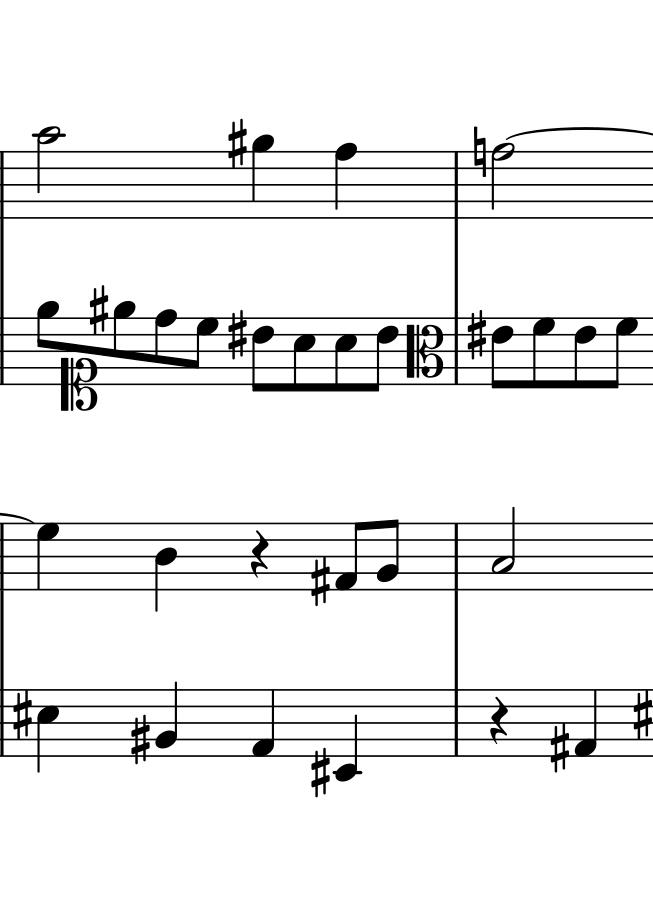2_10: (31, 125, 65, 222)
2_2: (491, 509, 517, 588)
2_8: (489, 140, 515, 221)
4_-2: (334, 687, 359, 783)
4_1: (250, 688, 276, 758)
4_2: (154, 678, 180, 758)
4_4: (153, 521, 179, 612)
4_5: (35, 687, 59, 776)
4_7: (34, 521, 59, 591)
4_8: (333, 141, 357, 219)
4_9: (250, 131, 274, 221)
8_1: (334, 520, 366, 592), (574, 687, 600, 759)
8_2: (376, 518, 400, 592)
8_5: (291, 315, 317, 393), (333, 315, 357, 393)
8_6: (368, 316, 400, 393), (490, 315, 515, 392), (251, 316, 275, 395), (573, 314, 597, 391)
8_7: (607, 315, 637, 390), (530, 314, 556, 389), (190, 316, 218, 385)
8_8: (153, 308, 178, 387)
8_9: (35, 300, 60, 385), (112, 301, 137, 384)
Cclef: (405, 316, 445, 385)
Natural: (473, 126, 487, 182)
Rests4: (488, 696, 510, 747), (248, 530, 270, 580)
Sharp: (226, 117, 248, 171), (87, 284, 109, 337), (309, 555, 331, 608), (11, 689, 33, 742), (129, 714, 151, 767), (226, 309, 248, 361), (548, 722, 570, 774), (466, 309, 487, 362), (310, 747, 331, 799), (632, 689, 651, 742)
Single_barline: (448, 689, 465, 757), (448, 523, 465, 588), (448, 152, 464, 216), (448, 315, 462, 386), (1, 524, 12, 590), (1, 151, 11, 218), (1, 316, 10, 384), (1, 687, 9, 760)
Slur: (503, 124, 653, 138)
